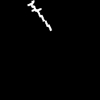double_crochet: (28, 1, 50, 30)
